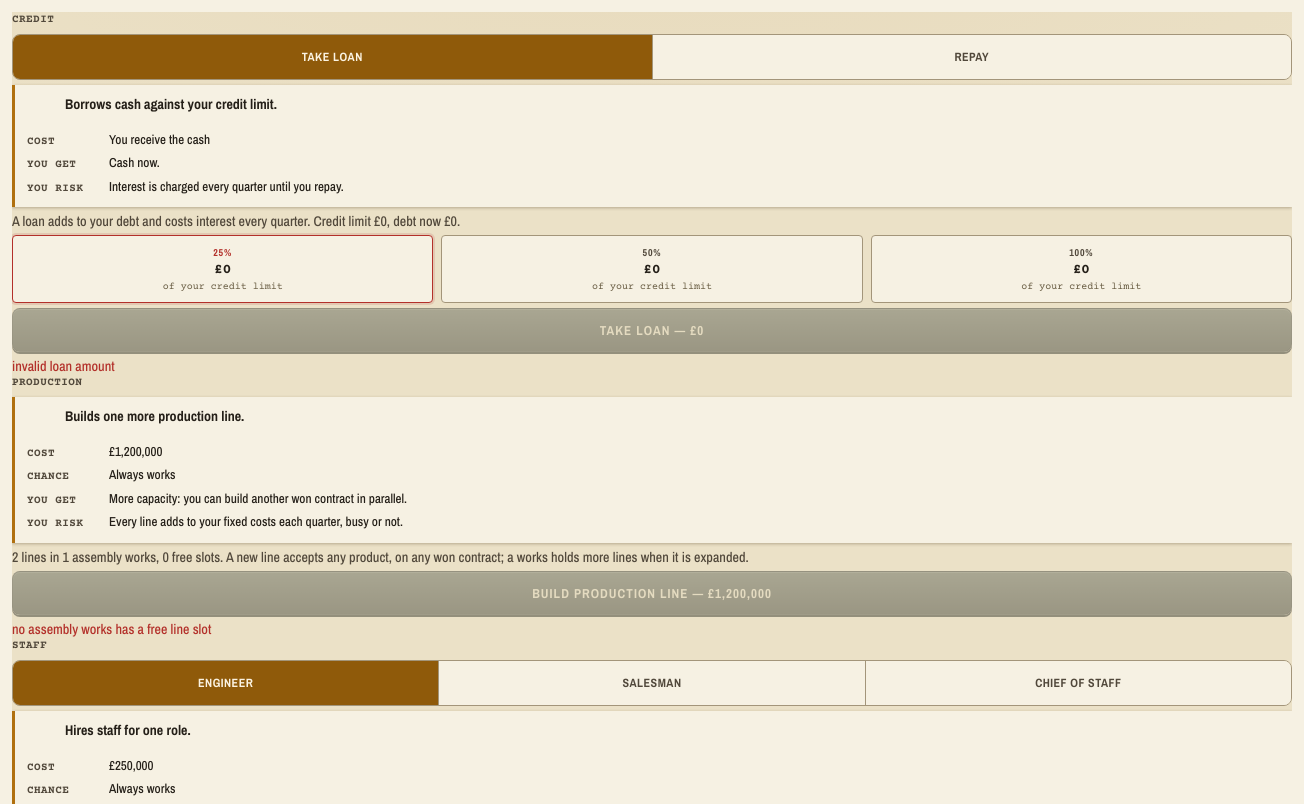
Test: THE COMPANY — kortet i varje formulär › lån/återbetalning, linje, anställning och kris-R&D har varsitt kort
Click the radio button "REPAY": [972, 56] box [652, 34, 1291, 78]
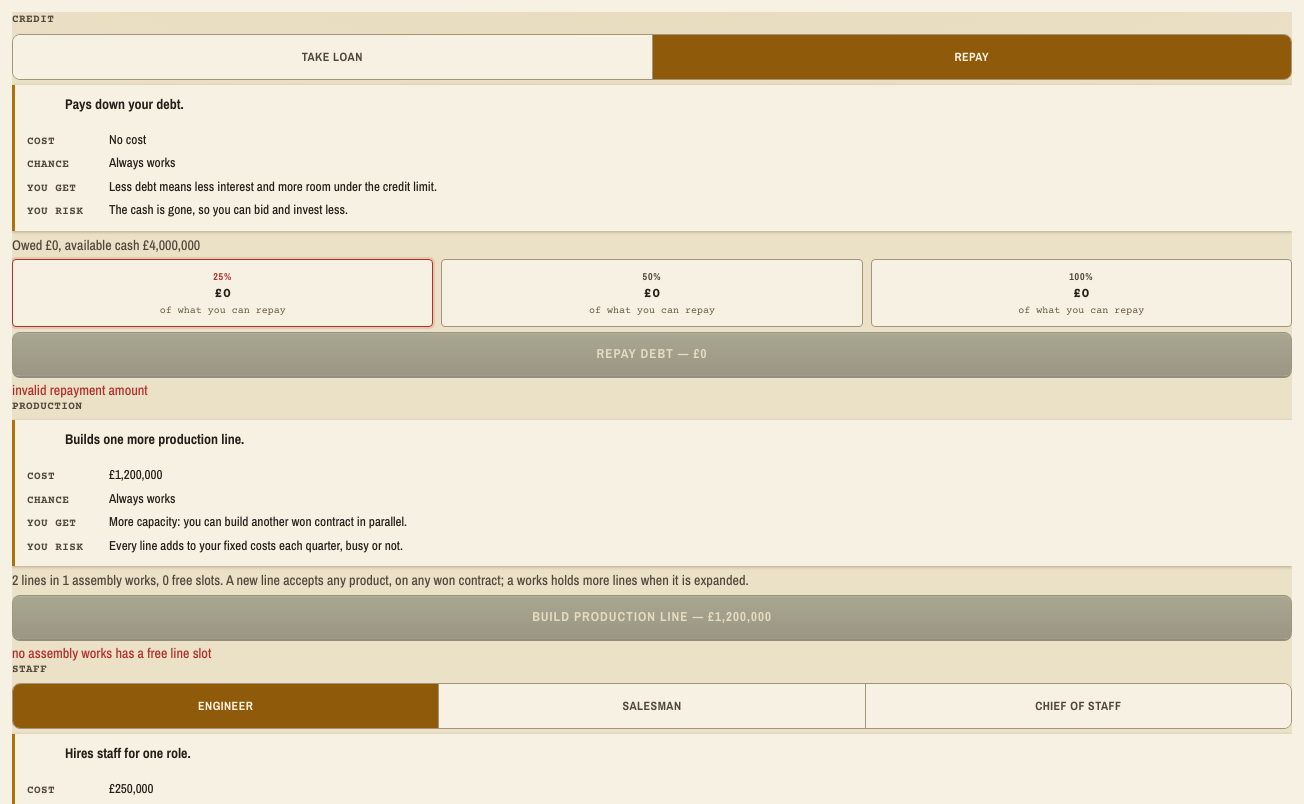
expect the element with test id "action-card-REPAY" is shown: met, box [12, 84, 1292, 230]
